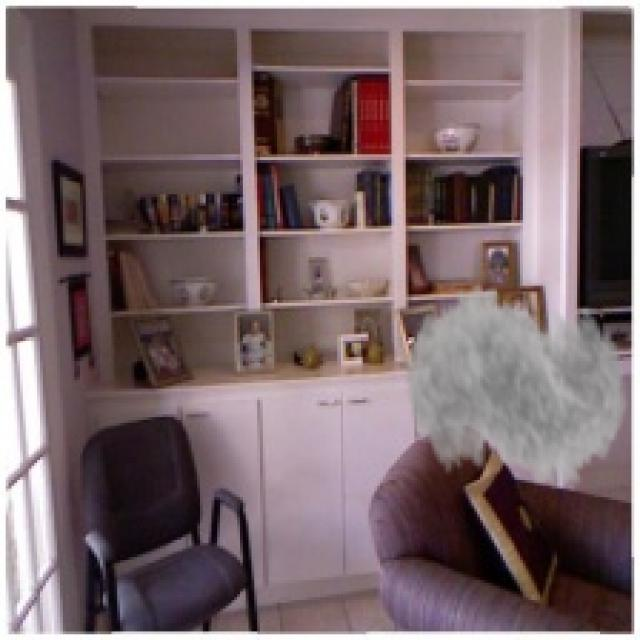smoke: (403, 266, 628, 514)
